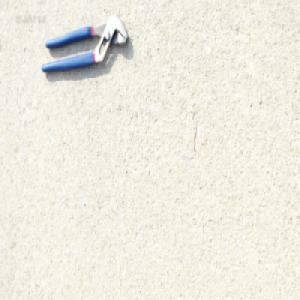Pliers: (39, 13, 128, 73)
